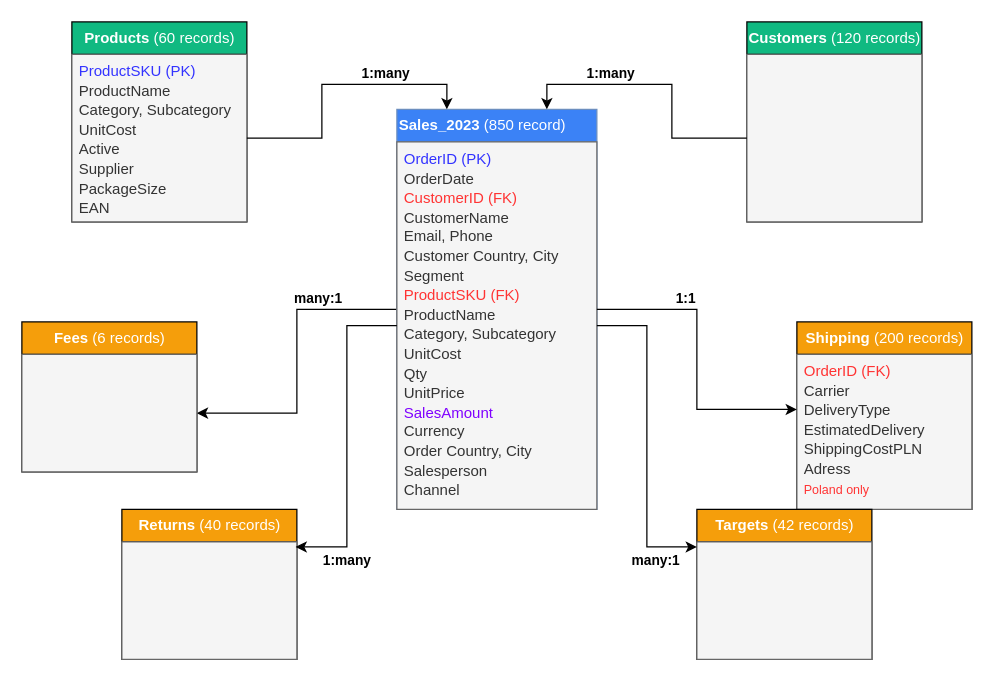
This 994x685 diagram has some shape labels left out. The shapes that lost their labels are listed below. From the top down, each one's centre as x and y in pixels, then its label:
At (x=834, y=137): "CustomerID (PK) CustomerName Email Phone Country, City Segment JoinDate VAT".
At (x=109, y=412): "Channel Country FeeType FeeValue Poland only".
At (x=209, y=600): "ReturnID (PK) OrderID (FK) Reason Date Status".
At (x=784, y=600): "Salesperson Month MonthNumber Target Note".
